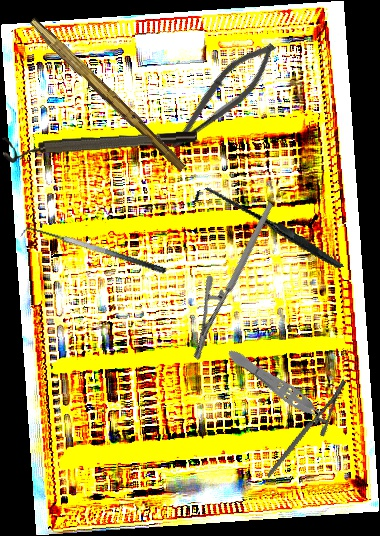Fixation Ring: (1, 127, 199, 164)
Hook Surgical: (191, 152, 344, 308)
Micro Scissor: (163, 31, 284, 163)
Needle Holder: (154, 201, 314, 362), (244, 378, 368, 479)
Scalpel Handle: (24, 16, 190, 174)
Spatula Surgical: (19, 219, 168, 286)
Tissue Forceps: (223, 343, 337, 435)
